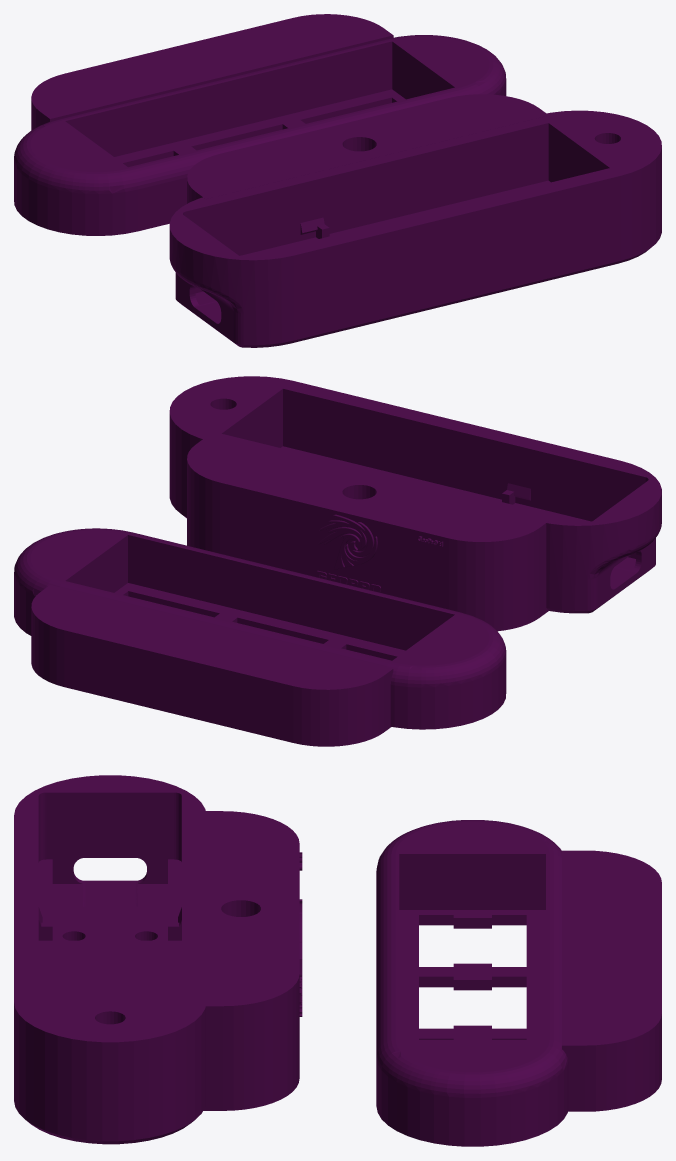
Rendered from geopad.glb.
3 renders of one model, top to bottom at view 1: azimuth 30°, elevation 25°; view 2: azimuth 150°, elevation 25°; view 3: azimuth 270°, elevation 25°, orthographic. The views are drawn at different scales.
Visible parts, largest first — view 1: FixedCase; view 2: FixedCase; view 3: FixedCase.
Part boxes in pixels (x1,y1,x2,y2): FixedCase: (14, 14, 661, 347); FixedCase: (14, 376, 661, 746); FixedCase: (14, 775, 661, 1146).
Bounding box in the file's own units: 18.46 × 3.4 × 18.93.
